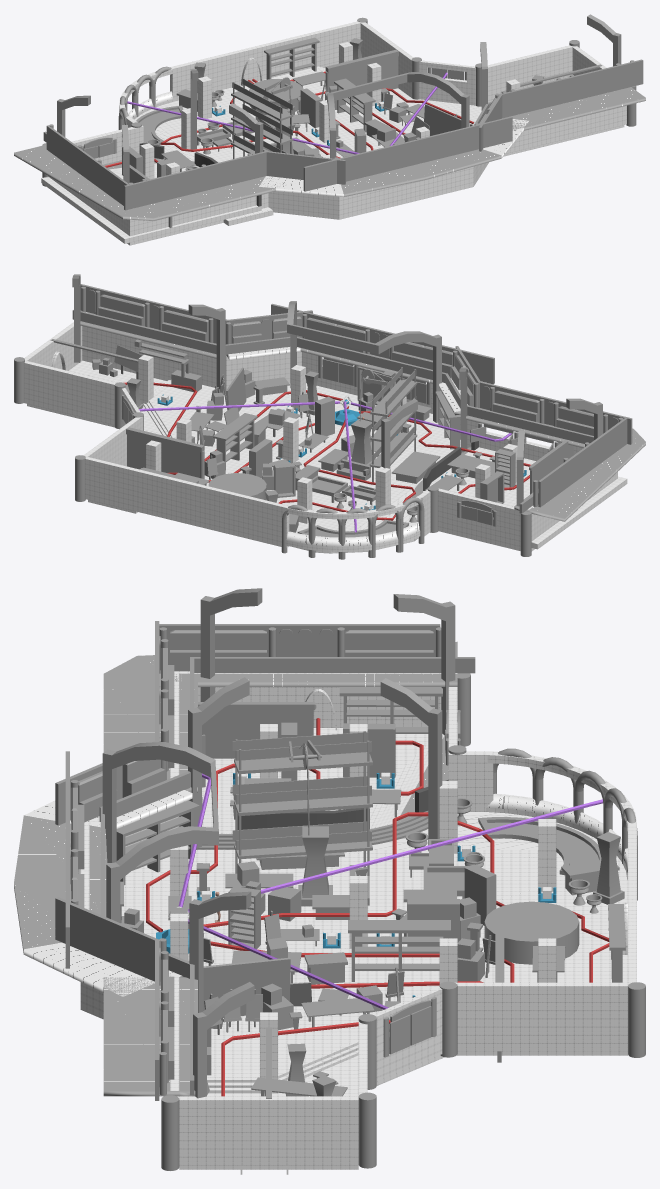
The picture shows the model from 3 angles, top to bottom: view 1: azimuth 30°, elevation 25°; view 2: azimuth 150°, elevation 25°; view 3: azimuth 270°, elevation 25°; orthographic projection. The views are drawn at different scales.
Visible parts, largest first — view 1: Cube__2__3, pCube30, Cube__3__2, Cube_13, pCube101, Cube__5__1, Cube, Cube__3__3, pCube130, pCylinder12, pCube154, pCube133 (+24 smaller); view 2: Cube__2__3, Cube__3__2, pCube30, pCube31, Cube_13, polySurface5, Cube, polySurface3, Cube__4_, pCube101, pCube130, pCylinder12 (+57 smaller); view 3: Cube__2__3, Cube_13, Cube__5__1, pCube101, Cube__6__1, polySurface3, pCube30, pCube31, pCube130, Cube__3__3, pCube133, Cube__1__5 (+61 smaller).
Part boxes in pixels (x1,y1,x2,y2): Cube__2__3: (14, 87, 645, 245); pCube30: (46, 59, 643, 210); Cube__3__2: (170, 21, 360, 101); Cube_13: (142, 68, 406, 162); pCube101: (231, 77, 293, 158); Cube__5__1: (359, 22, 475, 105); Cube: (487, 45, 572, 102); Cube__3__3: (41, 158, 261, 243); pCube130: (327, 72, 469, 158); pCylinder12: (325, 49, 398, 93); pCube154: (264, 37, 319, 79); pCube133: (57, 69, 198, 149); Cube__2__3: (80, 312, 645, 551); Cube__3__2: (85, 457, 289, 548); pCube30: (80, 284, 632, 507); pCube31: (72, 310, 593, 513); Cube_13: (204, 403, 454, 553); polySurface5: (81, 286, 302, 344); Cube: (24, 361, 116, 424); polySurface3: (451, 355, 623, 506); Cube__4_: (438, 488, 520, 550); pCube101: (359, 367, 417, 482); pCube130: (287, 301, 441, 422); pCylinder12: (126, 427, 204, 478); Cube__2__3: (14, 641, 457, 1096); Cube_13: (188, 850, 627, 1001); Cube__5__1: (373, 982, 631, 1081); pCube101: (232, 731, 372, 875); Cube__6__1: (177, 1096, 358, 1165); polySurface3: (78, 627, 441, 822); pCube30: (55, 621, 440, 1100); pCube31: (99, 657, 475, 1095); pCube130: (102, 742, 218, 922); Cube__3__3: (202, 728, 448, 833); pCube133: (380, 594, 455, 851); Cube__1__5: (207, 1001, 410, 1077).
Size of the model in its own units: 12108 by 2231 by 7041.
8 materials, 1 textured.
